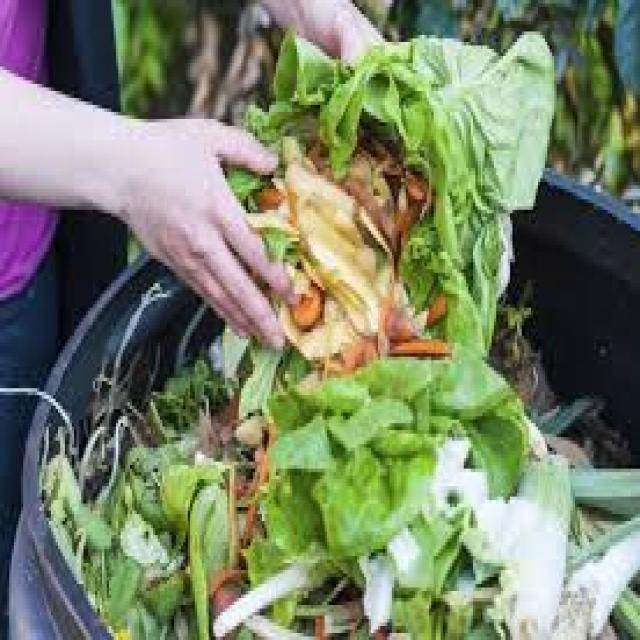organic waste: (352, 21, 552, 217), (269, 119, 394, 339), (354, 451, 492, 637), (385, 168, 508, 367), (464, 448, 570, 636), (306, 108, 431, 242), (498, 0, 593, 164), (577, 0, 638, 196), (269, 35, 366, 154), (206, 552, 327, 636), (241, 518, 334, 616), (183, 479, 237, 637), (318, 444, 406, 539), (566, 511, 638, 626), (192, 370, 286, 454), (79, 388, 176, 469), (114, 437, 194, 532), (114, 514, 186, 619), (464, 402, 533, 511), (142, 356, 235, 434), (109, 0, 178, 101), (424, 339, 512, 416), (213, 0, 275, 108), (248, 465, 320, 549), (258, 468, 322, 560), (387, 0, 517, 45), (176, 0, 223, 112), (280, 311, 366, 367), (60, 493, 104, 595), (354, 350, 448, 395), (264, 406, 334, 465), (568, 458, 638, 511), (296, 370, 376, 412), (332, 322, 454, 349), (100, 549, 146, 612), (151, 563, 190, 637), (88, 468, 132, 532), (158, 462, 202, 524), (505, 406, 552, 462), (199, 322, 246, 378), (104, 591, 160, 637), (225, 154, 271, 206), (40, 448, 76, 514), (72, 504, 111, 556), (264, 388, 313, 427), (248, 182, 297, 220), (208, 574, 246, 619), (241, 102, 295, 130), (290, 287, 327, 325), (264, 224, 306, 255)
